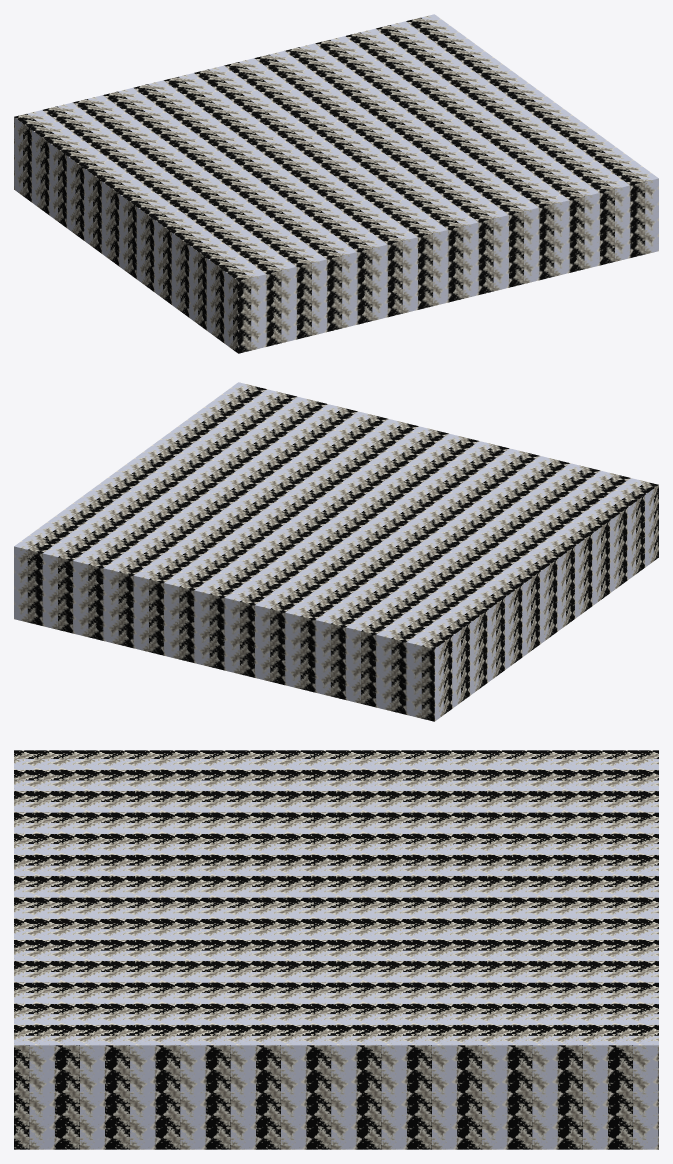
File: Plane_brush.glb
The picture shows the model from 3 angles, top to bottom: view 1: azimuth 30°, elevation 25°; view 2: azimuth 150°, elevation 25°; view 3: azimuth 270°, elevation 25°; orthographic projection. The views are drawn at different scales.
Parts seen in each view (by area): view 1: Plane; view 2: Plane; view 3: Plane.
Boxes of the visible parts, <box> form: Plane: <box>14,14,658,353</box>; Plane: <box>14,382,658,721</box>; Plane: <box>14,750,658,1149</box>.
Bounding box in the file's own units: 3553 × 587 × 3283.
Materials: 18 (18 with a texture image).
